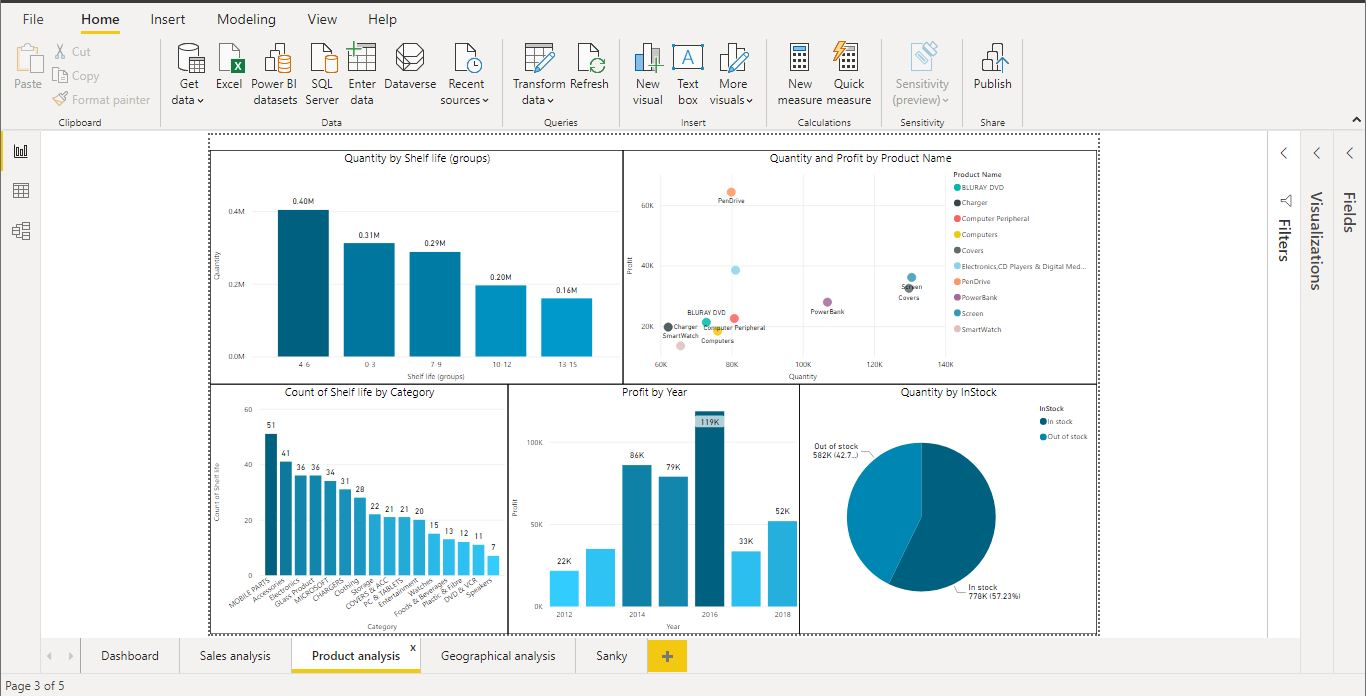

The page's visual inventory and layout, read from the dashboard file:
{"tool":"powerbi","page":{"name":"Product analysis","canvas":[1280,720],"ordinal":2},"visuals":[{"type":"columnChart","fields":{"Y":["Sum(Sheet1. Quantity)"],"Category":["Sheet1.Shelf life (groups)"]},"box":[0,21.8,596.3,337.6],"z":1000},{"type":"scatterChart","fields":{"X":["Sum(Sheet1. Quantity)"],"Y":["Sum(Sheet1.Profit)"],"Series":["Sheet1.Product Name"]},"box":[596.3,21.8,683.7,337.6],"z":2000},{"type":"pieChart","fields":{"Category":["Sheet1.InStock"],"Y":["Sum(Sheet1. Quantity)"]},"box":[850.4,359.5,429.6,360.9],"z":3000},{"type":"columnChart","fields":{"Y":["CountNonNull(Sheet1.Shelf life)"],"Category":["Sheet1.Category"]},"box":[0,359.5,429.6,360.9],"z":4000},{"type":"lineStackedColumnComboChart","fields":{"Category":["Sheet1.Year","Sheet1.Country"],"Y":["Sum(Sheet1.Profit)"]},"box":[429.6,359.5,420.8,360.9],"z":5000}]}

Visuals, with their boxes on the page's 1280x720 design canvas (x1, y1, x2, y2). These are canvas units, not pixel positions in the 1366x696 screenshot, which may show the page scaled, cropped or inside an application window:
columnChart - Sum(Sheet1. Quantity) x Sheet1.Shelf life (groups): 0,22,596,359
scatterChart - Sum(Sheet1. Quantity) x Sum(Sheet1.Profit): 596,22,1280,359
pieChart - Sheet1.InStock x Sum(Sheet1. Quantity): 850,360,1280,720
columnChart - CountNonNull(Sheet1.Shelf life) x Sheet1.Category: 0,360,430,720
lineStackedColumnComboChart - Sheet1.Year x Sheet1.Country: 430,360,850,720
